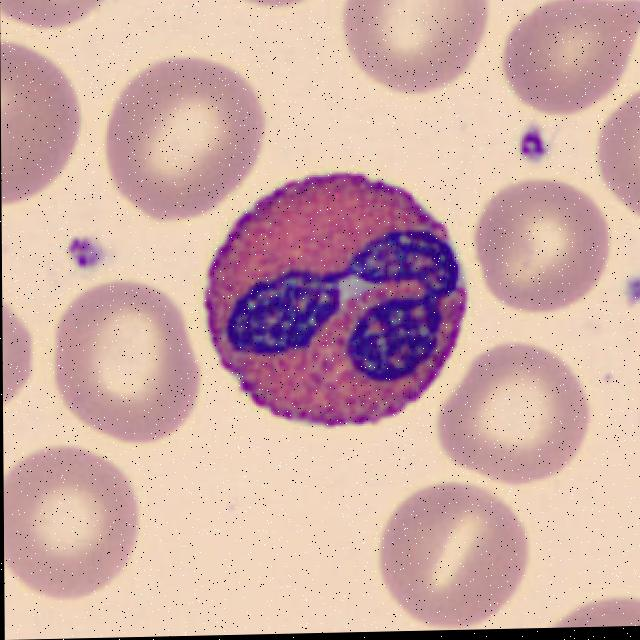eosinophil: (208, 164, 478, 439)
platelets: (62, 228, 119, 277), (519, 120, 549, 174)
rbc: (97, 61, 270, 226), (49, 278, 200, 452), (372, 483, 538, 632), (432, 344, 600, 491), (3, 442, 151, 600), (477, 179, 612, 324), (336, 0, 499, 109), (498, 0, 640, 120), (0, 37, 84, 215), (598, 93, 640, 226), (0, 0, 126, 41), (548, 576, 640, 628), (2, 281, 35, 416), (190, 0, 339, 16)
